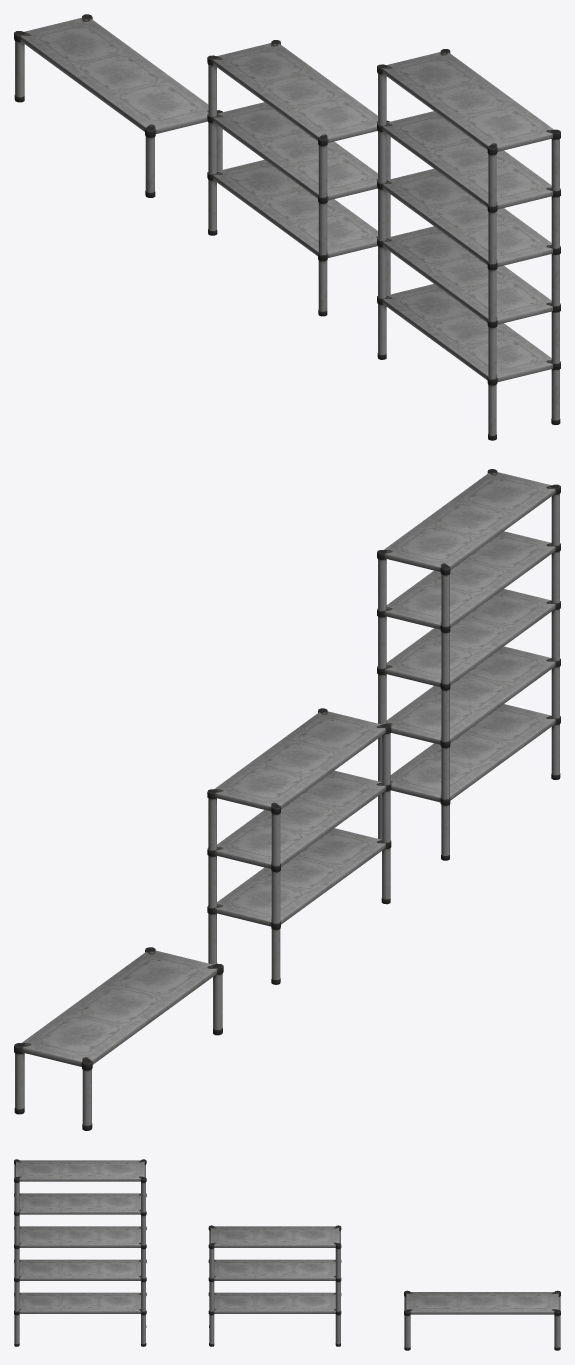
3 renders of one model, top to bottom at view 1: azimuth 30°, elevation 25°; view 2: azimuth 150°, elevation 25°; view 3: azimuth 270°, elevation 25°, orthographic. The views are drawn at different scales.
Visible parts, largest first — view 1: Shelve Tall Asset, Shelve Short Asset, Bench Asset; view 2: Shelve Tall Asset, Shelve Short Asset, Bench Asset; view 3: Shelve Tall Asset, Shelve Short Asset, Bench Asset.
Boxes of the visible parts, left/top/right/bottom form: Shelve Tall Asset: left=377, top=49, right=560, bottom=440; Shelve Short Asset: left=207, top=40, right=390, bottom=316; Bench Asset: left=14, top=14, right=222, bottom=197; Shelve Tall Asset: left=377, top=469, right=560, bottom=860; Shelve Short Asset: left=207, top=708, right=391, bottom=984; Bench Asset: left=14, top=947, right=223, bottom=1130; Shelve Tall Asset: left=14, top=1159, right=146, bottom=1346; Shelve Short Asset: left=208, top=1225, right=341, bottom=1346; Bench Asset: left=404, top=1290, right=560, bottom=1350.
Size of the model in its own units: 63.75 by 235 by 681.
